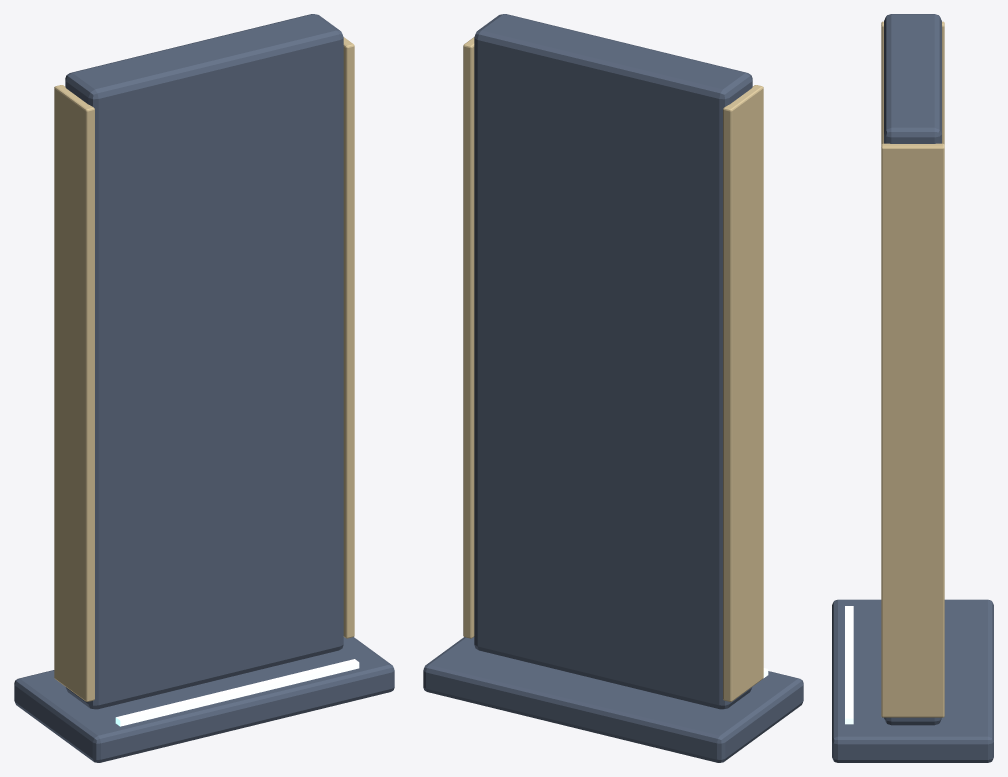
Rendered from digital_totem_v27_4.glb.
3 views of the same model, side by side, from view 1: azimuth 30°, elevation 25°; view 2: azimuth 150°, elevation 25°; view 3: azimuth 270°, elevation 25° (orthographic). The views are drawn at different scales.
Parts seen in each view (by area): view 1: PlazaMat_TotemNavy, PlazaMat_TotemBrass, PlazaMat_TotemGlow; view 2: PlazaMat_TotemNavy, PlazaMat_TotemBrass; view 3: PlazaMat_TotemBrass, PlazaMat_TotemNavy, PlazaMat_TotemGlow.
Boxes of the visible parts, x1,y1,x2,y2 form: PlazaMat_TotemNavy: (14, 14, 394, 762); PlazaMat_TotemBrass: (54, 37, 354, 701); PlazaMat_TotemGlow: (115, 659, 359, 726); PlazaMat_TotemNavy: (423, 14, 803, 762); PlazaMat_TotemBrass: (463, 37, 763, 701); PlazaMat_TotemBrass: (881, 21, 944, 717); PlazaMat_TotemNavy: (832, 14, 993, 762); PlazaMat_TotemGlow: (845, 606, 853, 724).
Bounding box in the file's own units: 1.16 × 2.38 × 0.56.
